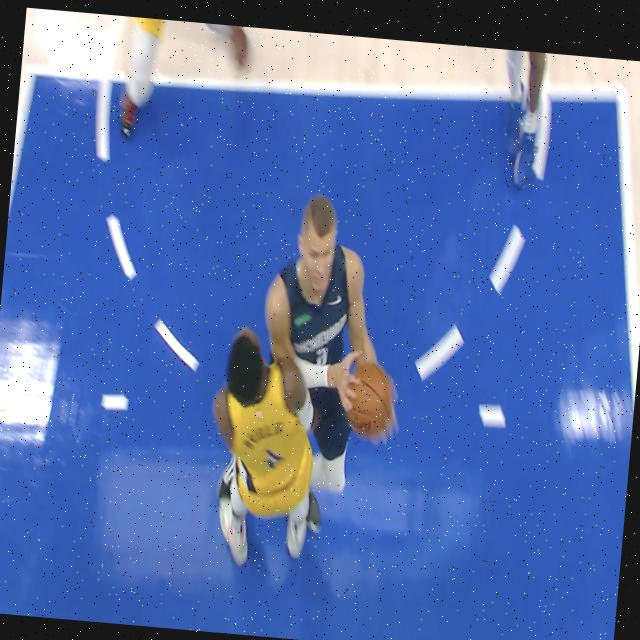foul: (165, 127, 488, 628)
